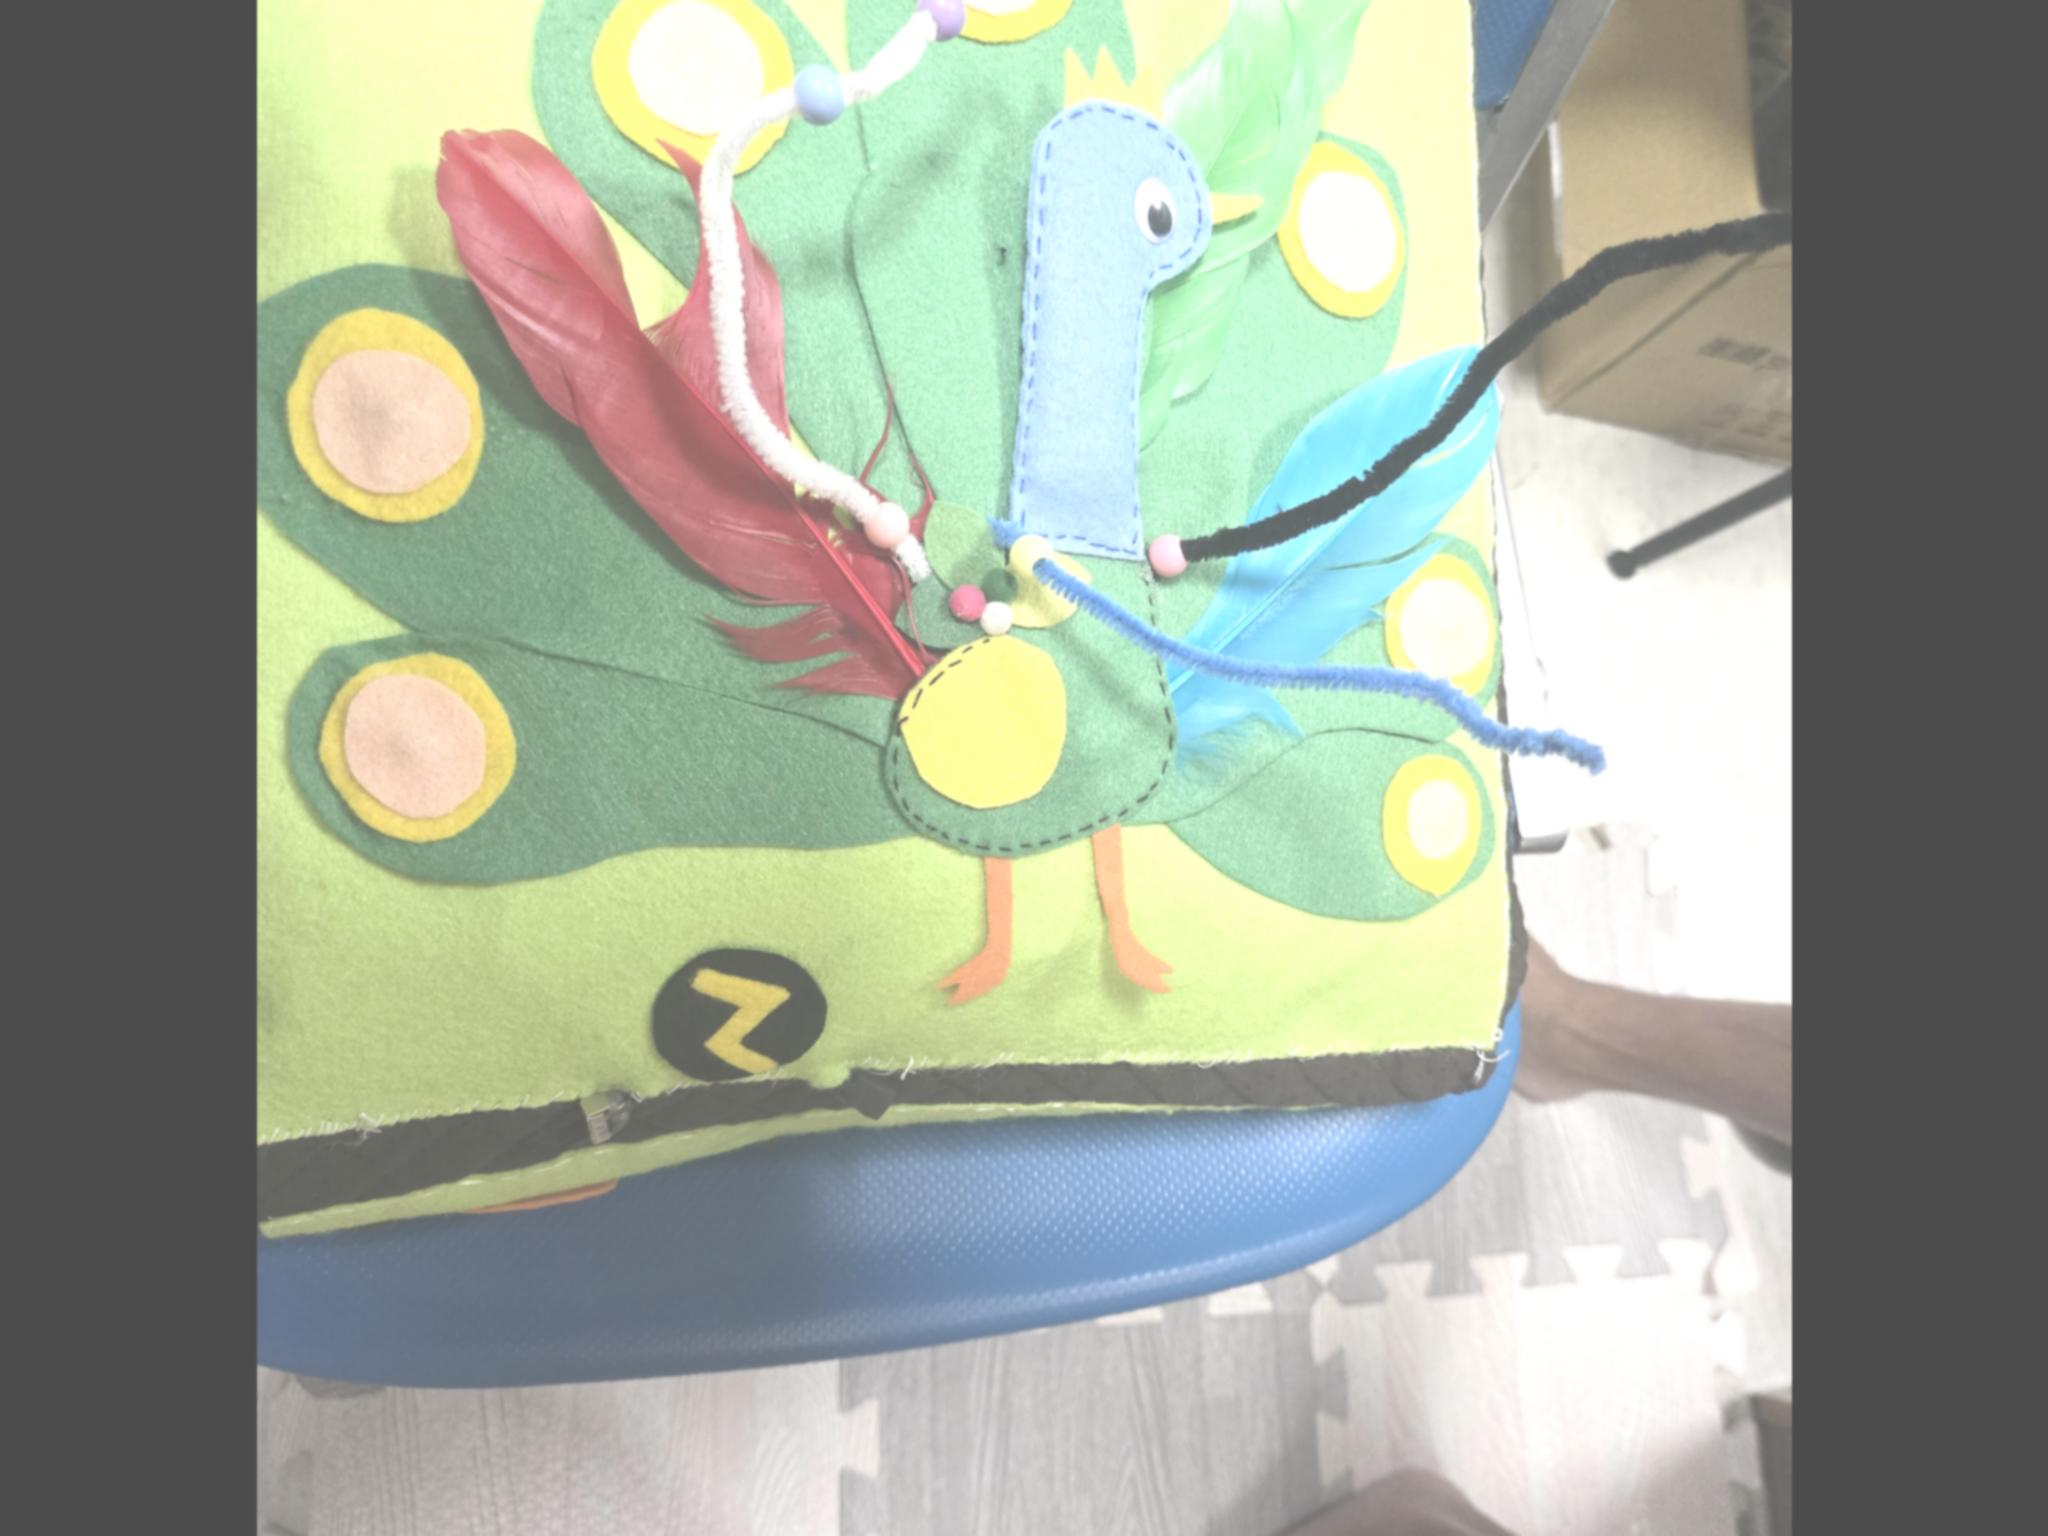bead: (784, 55, 855, 131), (905, 0, 976, 47), (856, 494, 913, 552), (998, 529, 1056, 584), (1145, 531, 1198, 584)
